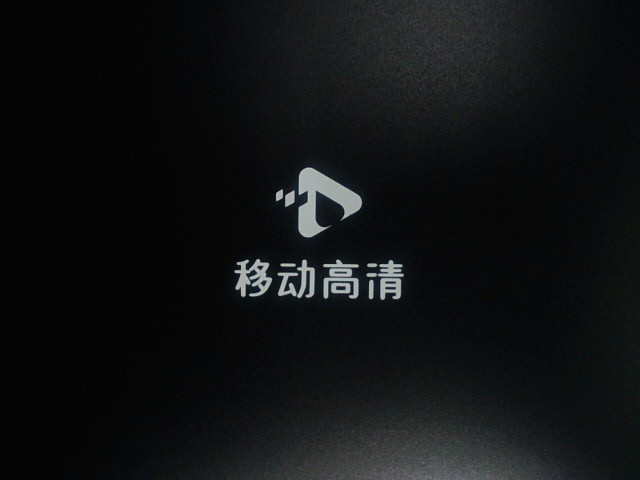AO_MobileHD: (201, 149, 425, 325)
